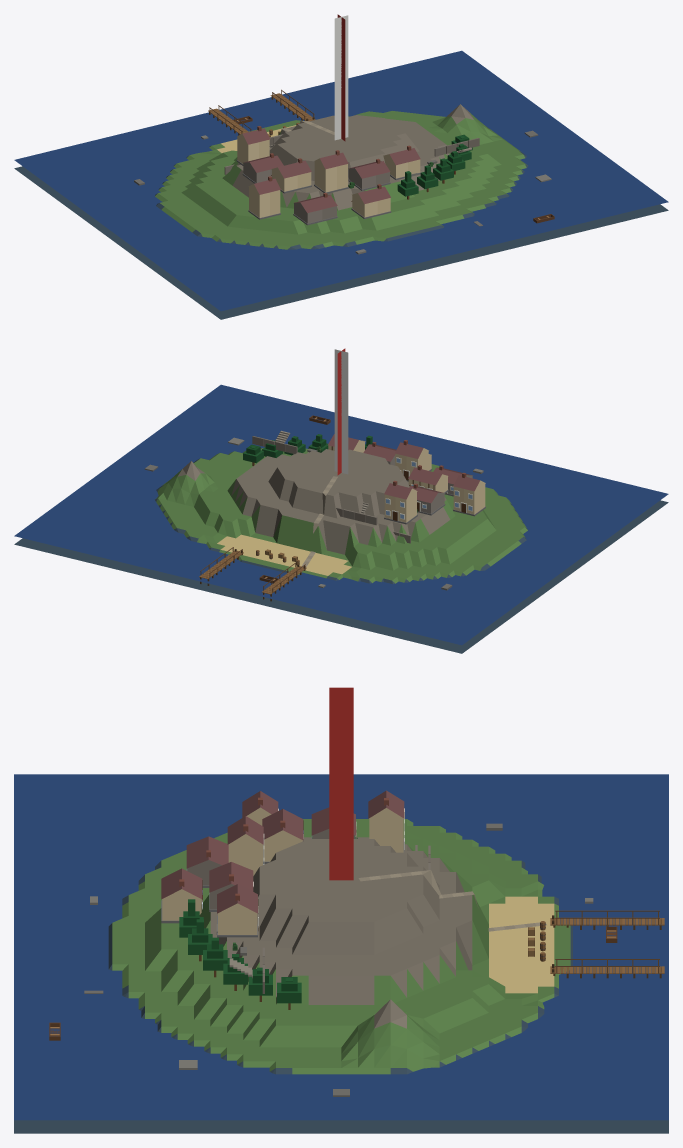
Rendered from scene_bad_v3.obj.
3 renders of one model, top to bottom at view 1: azimuth 30°, elevation 25°; view 2: azimuth 150°, elevation 25°; view 3: azimuth 270°, elevation 25°, orthographic. The views are drawn at different scales.
Parts seen in each view (by area): view 1: water, terrain, lighthouse_tower, house_3_two_story, house_9_two_story, house_8_stone, house_7_timber, house_4_timber, house_6_two_story, house_2_stone, house_1_timber, house_5_stone (+1 smaller); view 2: water, terrain, lighthouse_tower, house_6_two_story, house_9_two_story, house_3_two_story, house_4_timber, house_5_stone, pier_1, pier_2, wall_1; view 3: water, terrain, lighthouse_tower, house_1_timber, house_6_two_story, house_7_timber, house_3_two_story, house_4_timber, house_8_stone, pier_1, house_2_stone, pier_2 (+3 smaller).
Part boxes in pixels (x1=…): water: x1=14, y1=50, x2=668, y2=311; terrain: x1=14, y1=104, x2=668, y2=319; lighthouse_tower: x1=334, y1=14, x2=348, y2=141; house_3_two_story: x1=314, y1=150, x2=348, y2=193; house_9_two_story: x1=248, y1=176, x2=280, y2=219; house_8_stone: x1=293, y1=192, x2=337, y2=225; house_7_timber: x1=351, y1=184, x2=391, y2=219; house_4_timber: x1=271, y1=158, x2=311, y2=193; house_6_two_story: x1=236, y1=126, x2=270, y2=165; house_2_stone: x1=348, y1=158, x2=390, y2=190; house_1_timber: x1=383, y1=145, x2=420, y2=180; house_5_stone: x1=242, y1=153, x2=283, y2=183; water: x1=14, y1=384, x2=668, y2=645; terrain: x1=14, y1=448, x2=668, y2=653; lighthouse_tower: x1=334, y1=348, x2=348, y2=475; house_6_two_story: x1=384, y1=480, x2=417, y2=524; house_9_two_story: x1=453, y1=472, x2=485, y2=516; house_3_two_story: x1=395, y1=440, x2=428, y2=481; house_4_timber: x1=408, y1=465, x2=448, y2=493; house_5_stone: x1=409, y1=483, x2=445, y2=515; pier_1: x1=262, y1=562, x2=306, y2=601; pier_2: x1=199, y1=547, x2=243, y2=585; wall_1: x1=252, y1=430, x2=297, y2=454; water: x1=14, y1=774, x2=668, y2=1120; terrain: x1=14, y1=819, x2=668, y2=1133; lighthouse_tower: x1=329, y1=687, x2=353, y2=880; house_1_timber: x1=217, y1=884, x2=258, y2=937; house_6_two_story: x1=368, y1=790, x2=404, y2=852; house_7_timber: x1=161, y1=868, x2=202, y2=923; house_3_two_story: x1=227, y1=816, x2=264, y2=875; house_4_timber: x1=262, y1=809, x2=303, y2=864; house_8_stone: x1=186, y1=836, x2=228, y2=887; pier_1: x1=550, y1=910, x2=664, y2=929; house_2_stone: x1=209, y1=862, x2=253, y2=911; pier_2: x1=550, y1=959, x2=664, y2=978.
Size of the model in its own units: 100 by 36.8 by 80.
